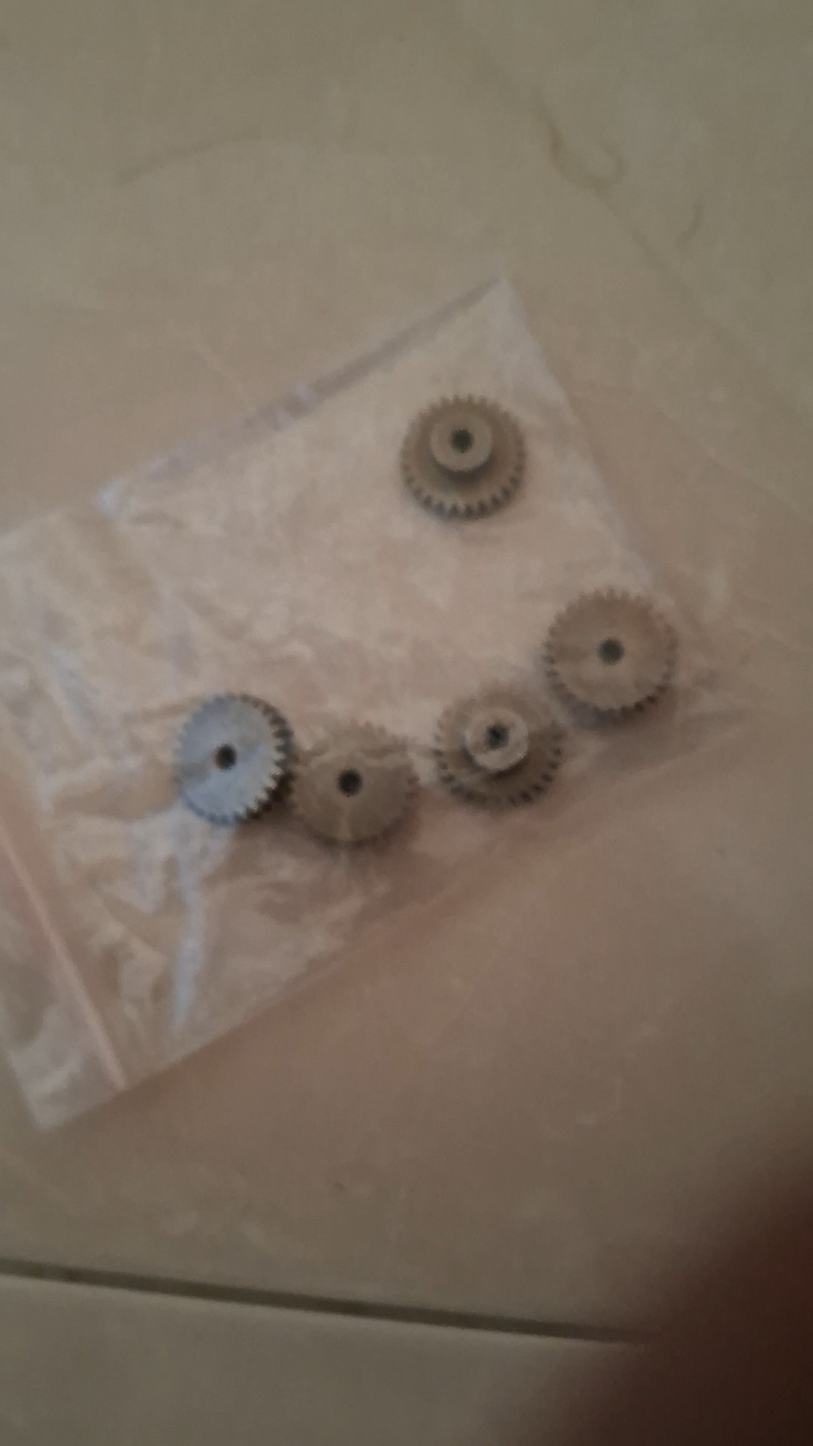spur gear: (544, 590, 677, 714), (434, 686, 563, 805), (175, 695, 292, 825), (401, 396, 524, 519), (292, 724, 416, 844)
